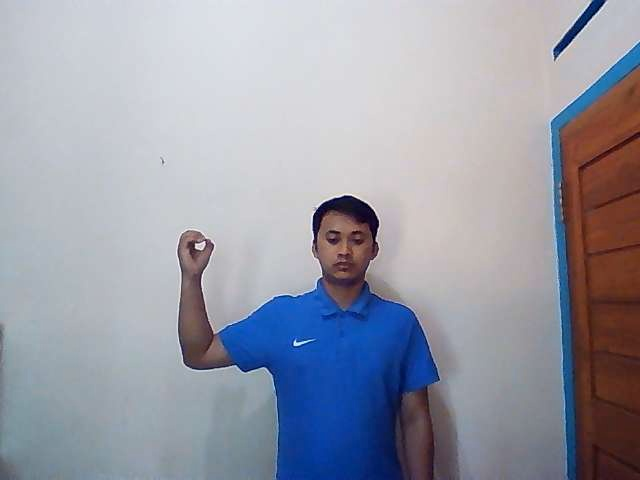O: (176, 228, 215, 278)
